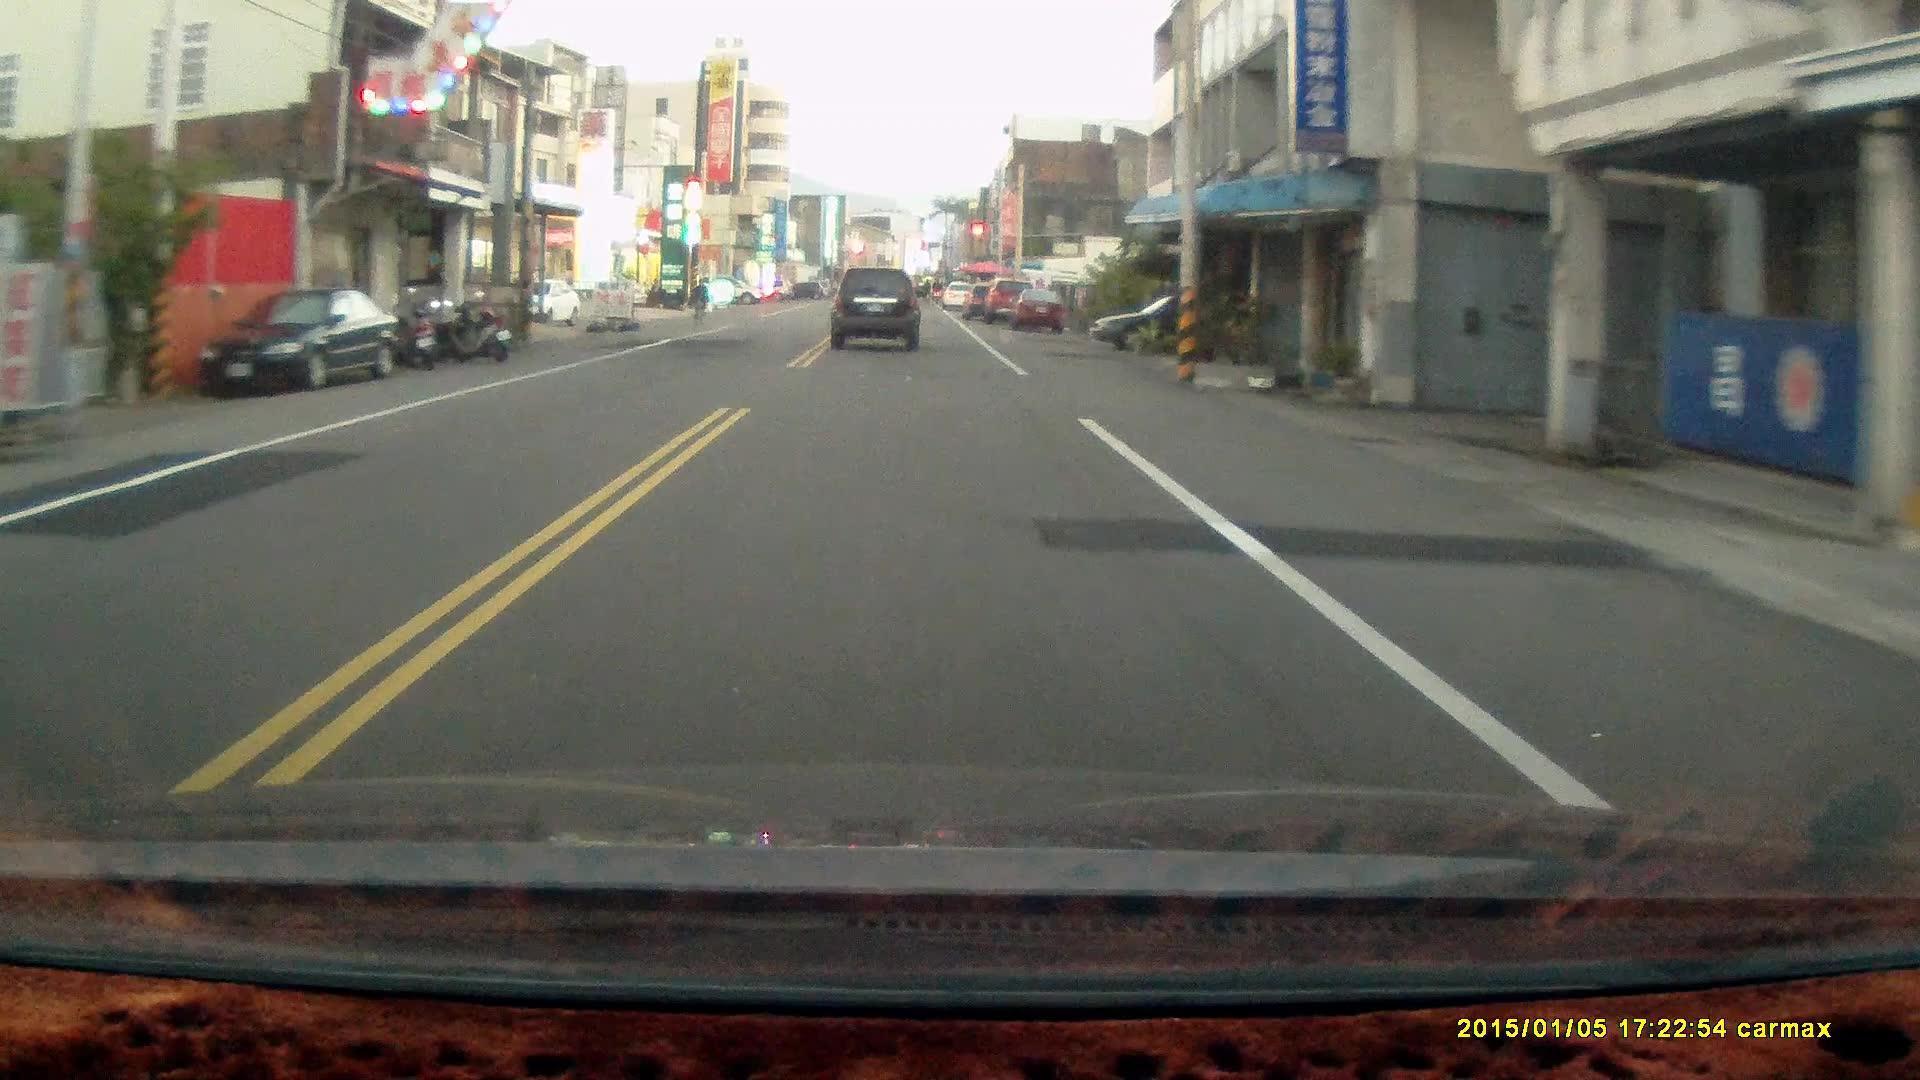rider: (685, 276, 709, 327)
vehicle: (197, 292, 401, 399), (831, 268, 924, 356), (493, 277, 581, 326)
